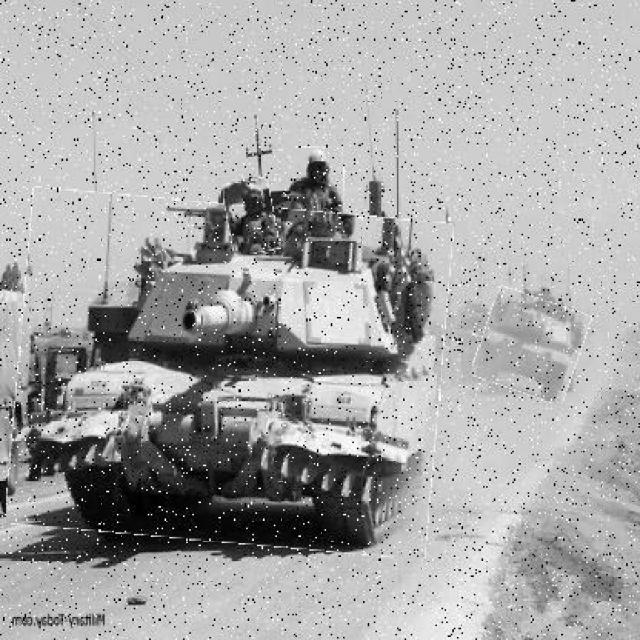Person: (292, 149, 344, 229), (226, 179, 278, 255)
Tank: (12, 196, 449, 552), (478, 294, 587, 400)
